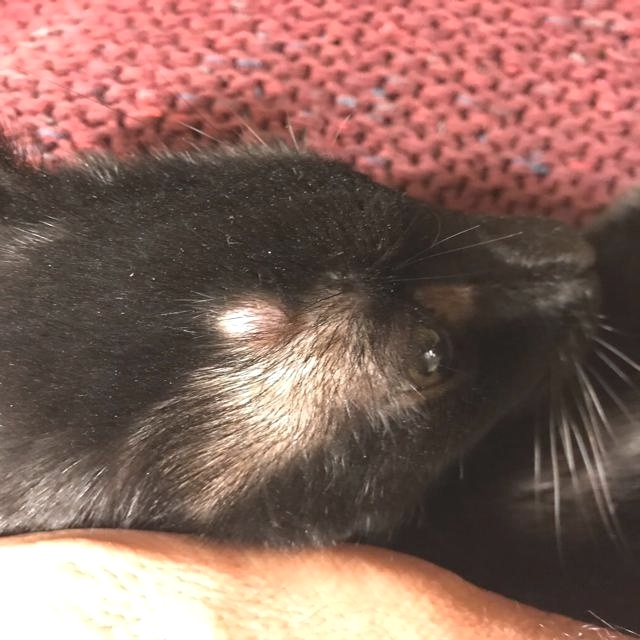lump_and_bump: (218, 297, 282, 349)
